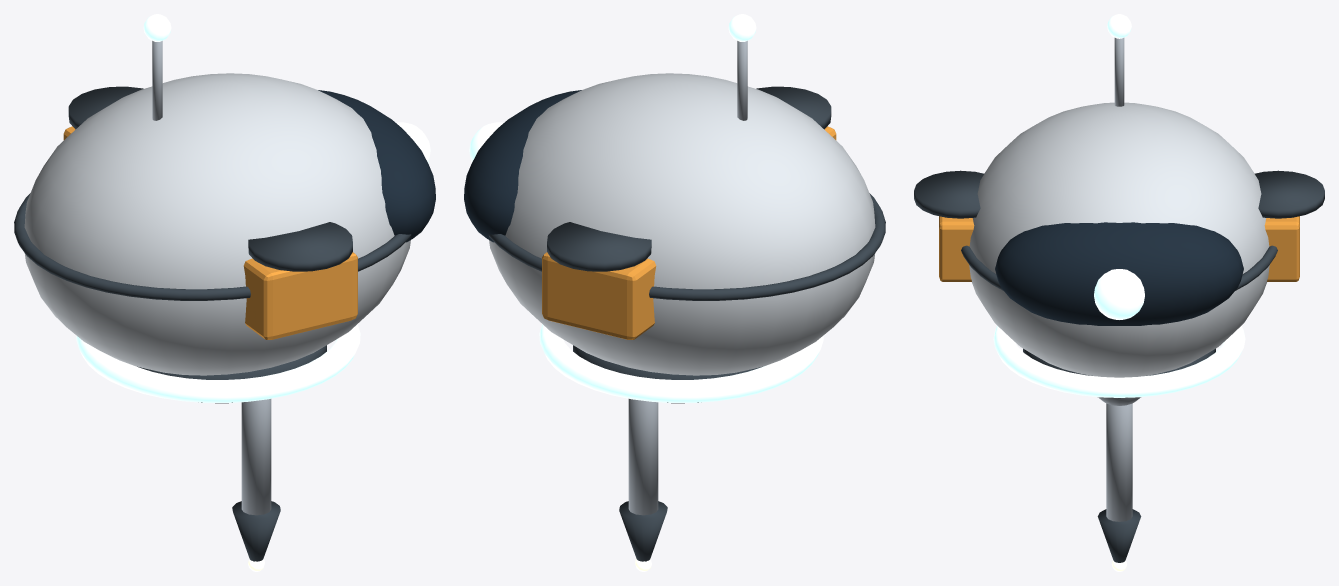
The model's file is repair-bot.glb.
The picture shows the model from 3 angles, left to right: view 1: azimuth 30°, elevation 25°; view 2: azimuth 150°, elevation 25°; view 3: azimuth 270°, elevation 25°; orthographic projection. The views are drawn at different scales.
Parts seen in each view (by area): view 1: BotShell, BotPodL, BotThruster, BotVisor, BotSeam, BotRotorL, BotArm, BotTorch, BotRotorR, BotBelly, BotAntenna, BotAntennaTip; view 2: BotShell, BotPodR, BotThruster, BotVisor, BotSeam, BotRotorR, BotArm, BotTorch, BotRotorL, BotBelly, BotAntenna, BotAntennaTip; view 3: BotShell, BotVisor, BotThruster, BotArm, BotRotorL, BotRotorR, BotEye, BotPodL, BotPodR, BotTorch, BotSeam, BotAntenna.
Boxes of the visible parts, box(x1,y1,x2,y2) form: BotShell: box(24, 73, 410, 375); BotPodL: box(243, 252, 357, 339); BotThruster: box(76, 324, 360, 402); BotVisor: box(318, 90, 435, 242); BotSeam: box(14, 193, 411, 300); BotRotorL: box(248, 222, 352, 271); BotArm: box(241, 399, 271, 515); BotTorch: box(232, 501, 280, 561); BotRotorR: box(68, 86, 143, 129); BotBelly: box(137, 345, 326, 403); BotAntenna: box(152, 41, 162, 120); BotAntennaTip: box(143, 14, 171, 41); BotShell: box(489, 73, 875, 375); BotPodR: box(542, 252, 656, 339); BotThruster: box(539, 324, 823, 402); BotVisor: box(464, 90, 581, 242); BotSeam: box(488, 193, 885, 300); BotRotorR: box(547, 222, 651, 271); BotArm: box(628, 399, 658, 515); BotTorch: box(619, 501, 667, 561); BotRotorL: box(756, 86, 831, 129); BotBelly: box(573, 345, 762, 403); BotAntenna: box(737, 41, 747, 120); BotAntennaTip: box(728, 14, 756, 41); BotShell: box(969, 102, 1269, 377); BotVisor: box(995, 222, 1243, 325); BotThruster: box(993, 326, 1245, 397); BotArm: box(1106, 403, 1132, 521); BotRotorL: box(914, 170, 983, 218); BotRotorR: box(1255, 170, 1324, 218); BotEye: box(1094, 269, 1144, 319); BotPodL: box(939, 216, 974, 281); BotPodR: box(1264, 216, 1299, 281); BotTorch: box(1097, 509, 1141, 562); BotSeam: box(961, 245, 1277, 290); BotAntenna: box(1114, 38, 1124, 106).
Bounding box in the file's own units: 2.57 × 3.64 × 2.64.
